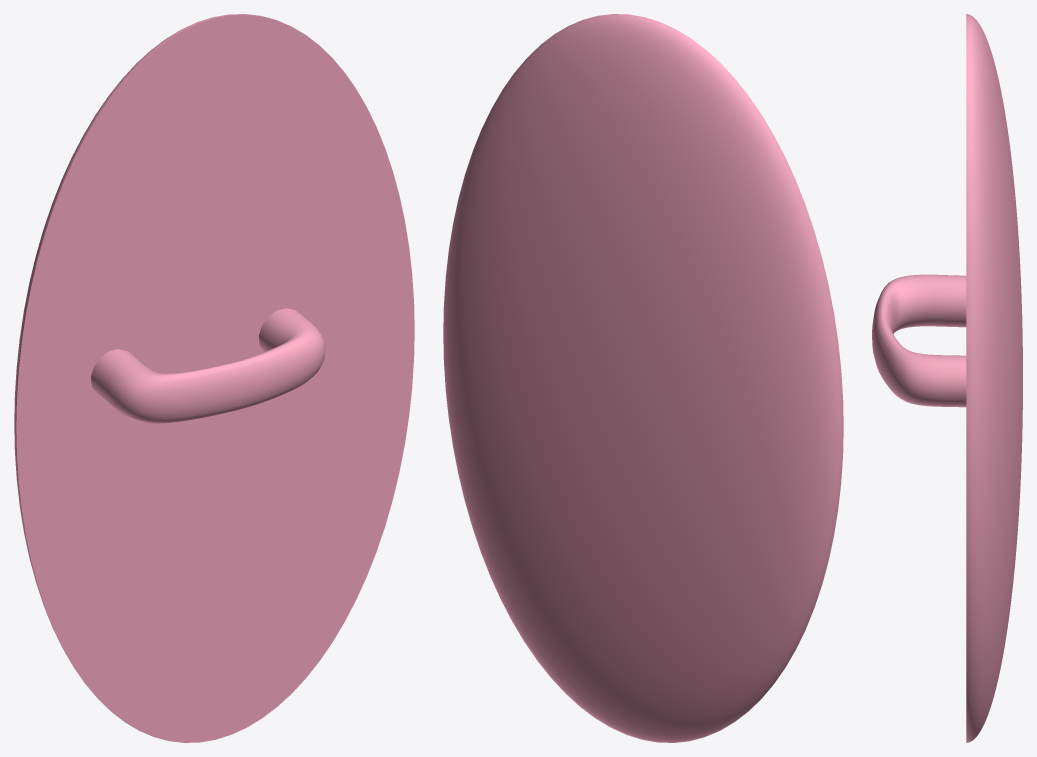
The model's file is shield.fbx.
3 renders of one model, left to right at view 1: azimuth 30°, elevation 25°; view 2: azimuth 150°, elevation 25°; view 3: azimuth 270°, elevation 25°, orthographic. The views are drawn at different scales.
Visible parts, largest first — view 1: root (×2); view 2: root; view 3: root (×2).
Boxes of the visible parts, x1,y1,x2,y2 form: root (×2): (14,14,414,742); root: (443,14,843,742); root (×2): (872,14,1022,742).
Size of the model in its own units: 0.4213 by 0.7298 by 0.1418.
